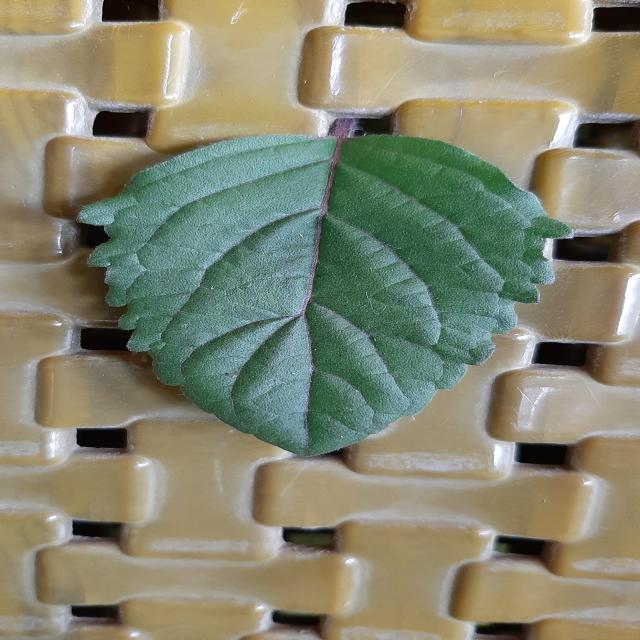tulsi: (79, 135, 569, 455)
